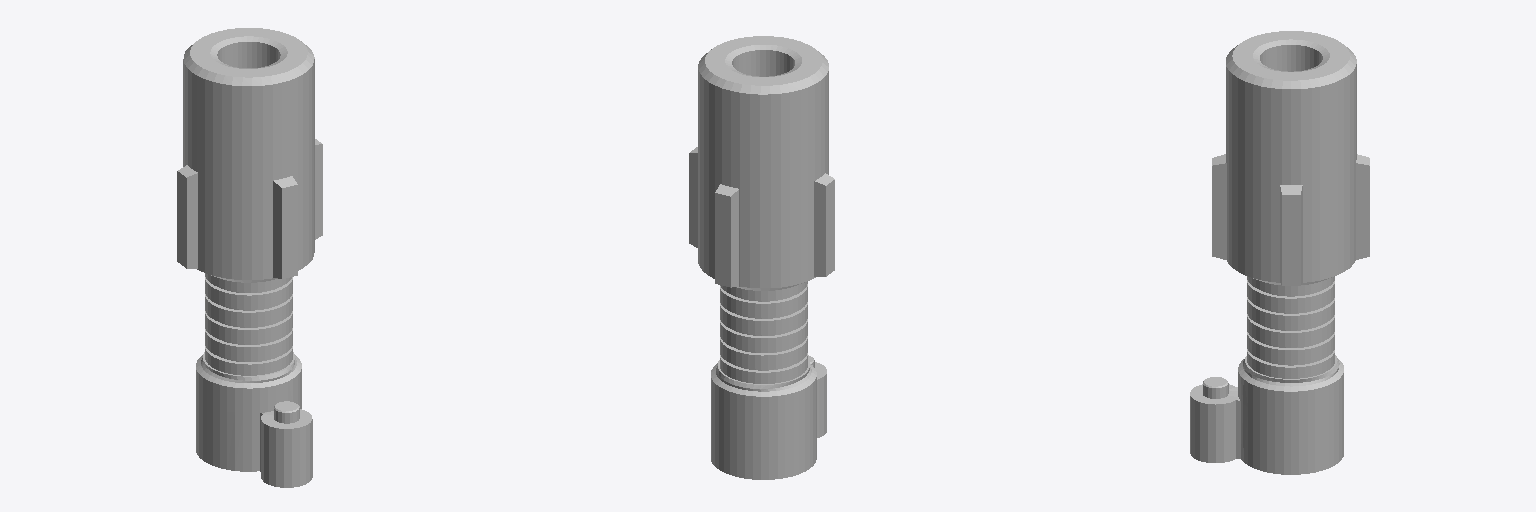
Rendered from BolterBarrel.obj.
The picture shows the model from 3 angles: view 1: azimuth 30°, elevation 25°; view 2: azimuth 150°, elevation 25°; view 3: azimuth 270°, elevation 25°; orthographic projection.
Visible parts, largest first — view 1: TGunBarrelStandard:0; view 2: TGunBarrelStandard:0; view 3: TGunBarrelStandard:0.
Part boxes in pixels (x1,y1,x2,y2): TGunBarrelStandard:0: (177,28,322,487); TGunBarrelStandard:0: (689,36,834,479); TGunBarrelStandard:0: (1190,31,1369,474).
Bounding box in the file's own units: 7.52 × 20.97 × 8.6.